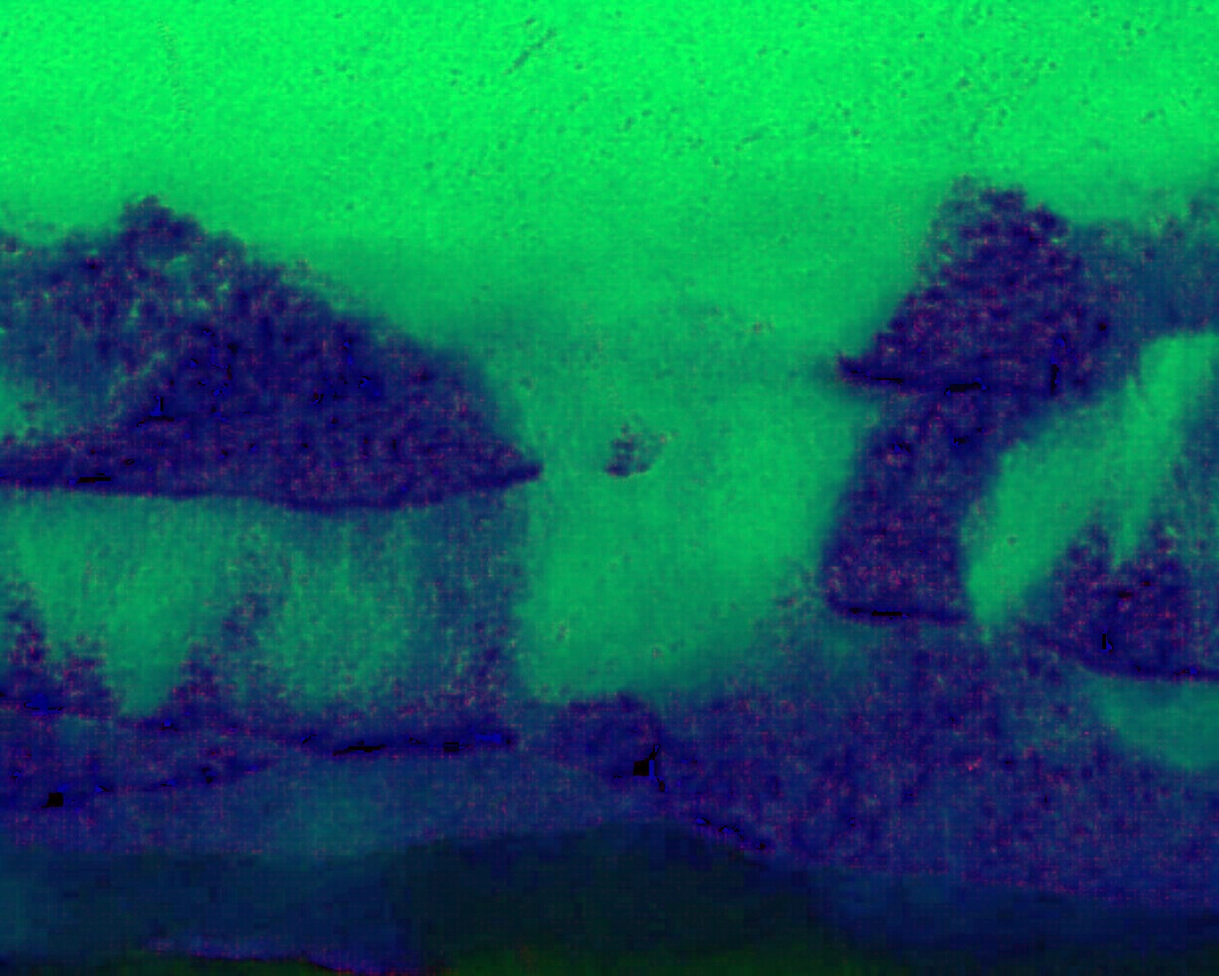rip_current: (371, 170, 889, 744)
